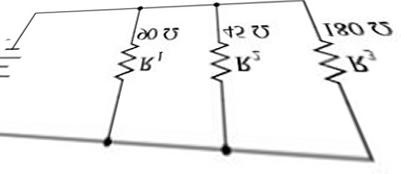resistor: (309, 36, 346, 89), (204, 38, 234, 86), (111, 37, 139, 82)
